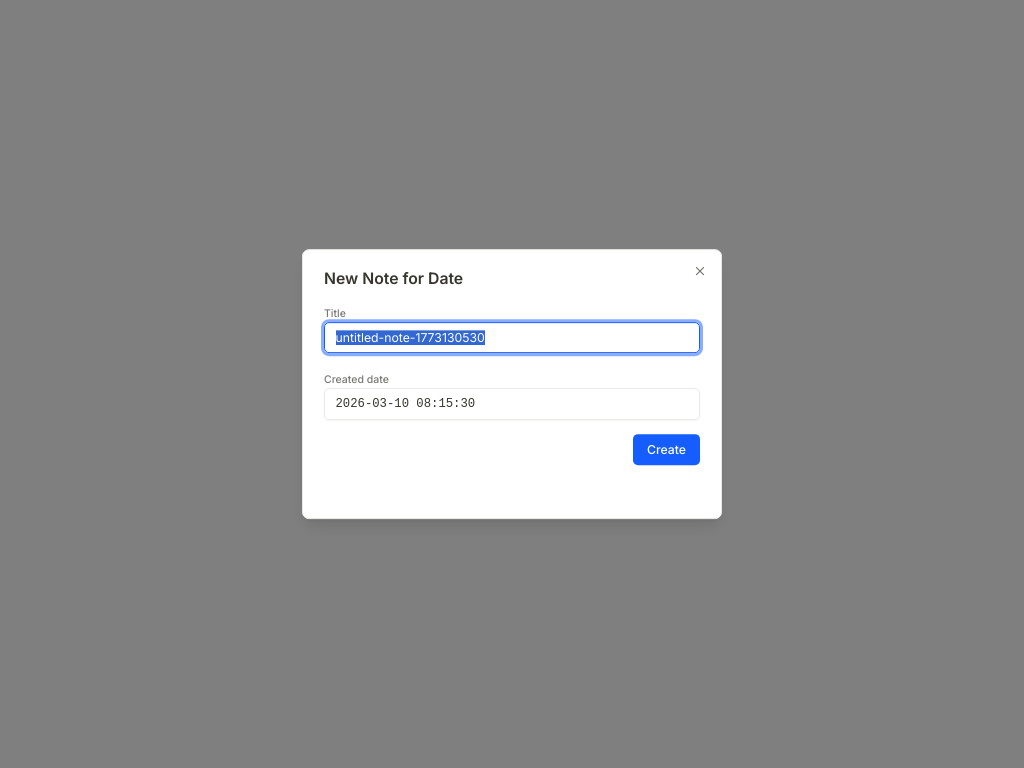
it: CreateNoteForDateDialog › disables Create when the created field is not a valid datetime
Replace the text in the field with placeholder "Enter note title…" with "Recap": (512, 338) [324,322,700,353]
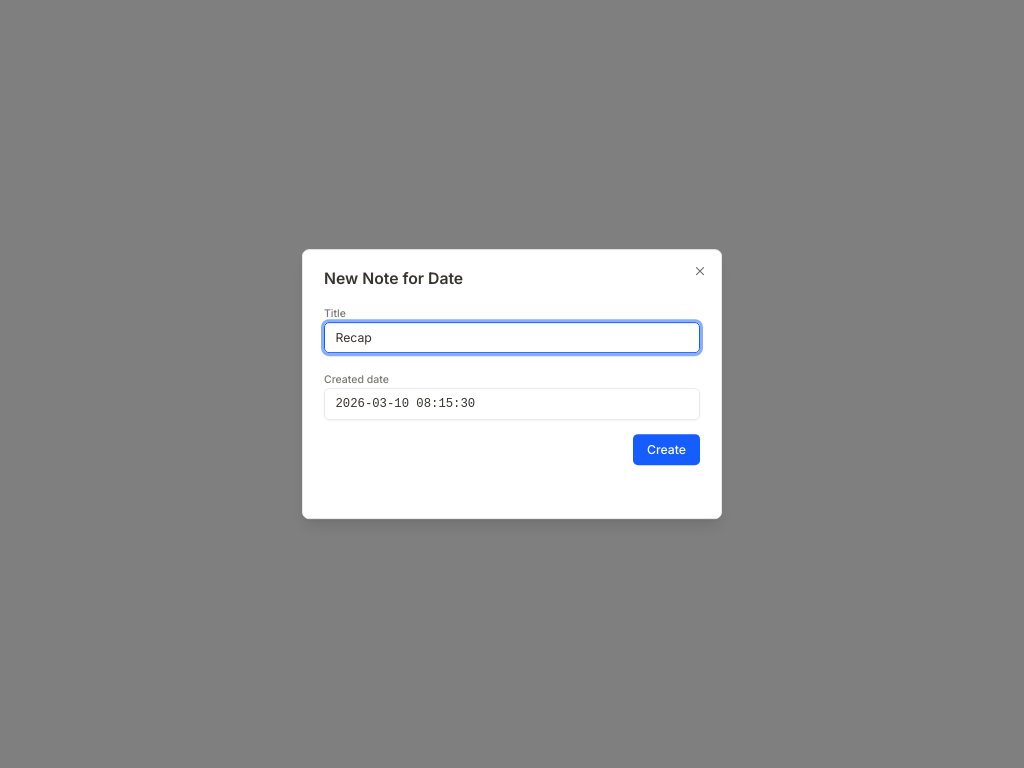
Replace the text in the field with test id "create-note-for-date-input" with "not-a-date": (512, 404) [324,388,700,420]
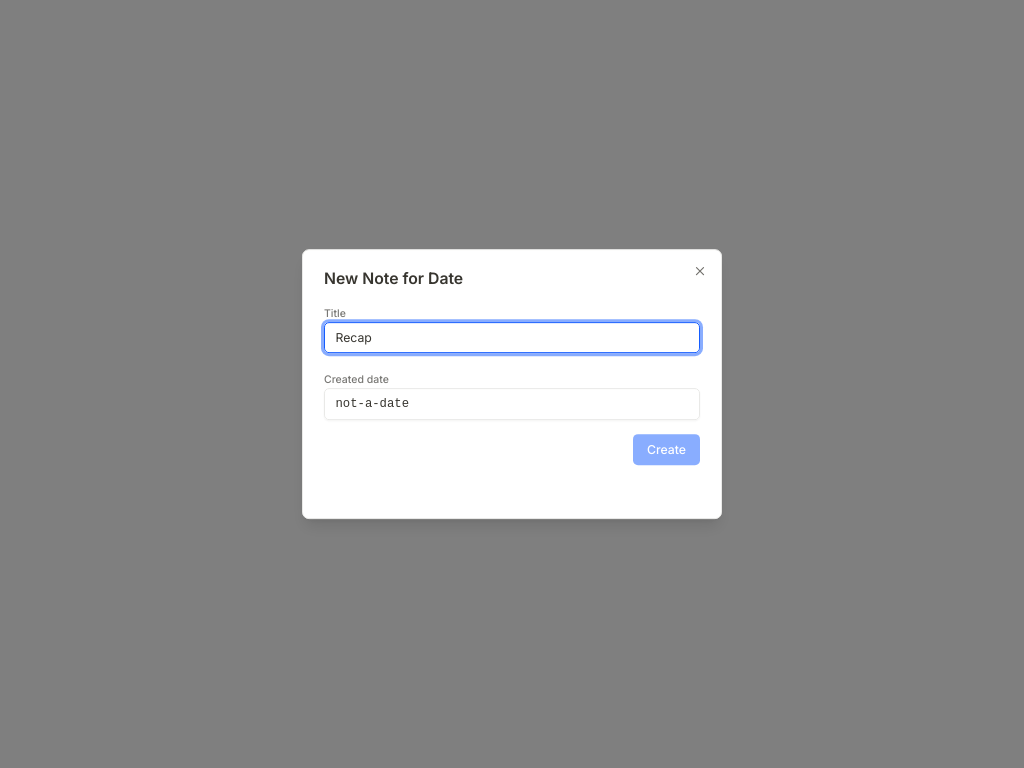
Result: the button "Create" is disabled at [633,434,700,465]
